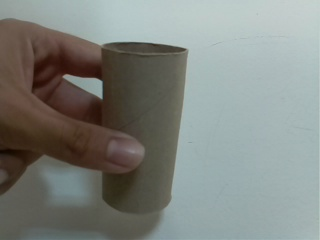rollo papel: (98, 38, 194, 218)
